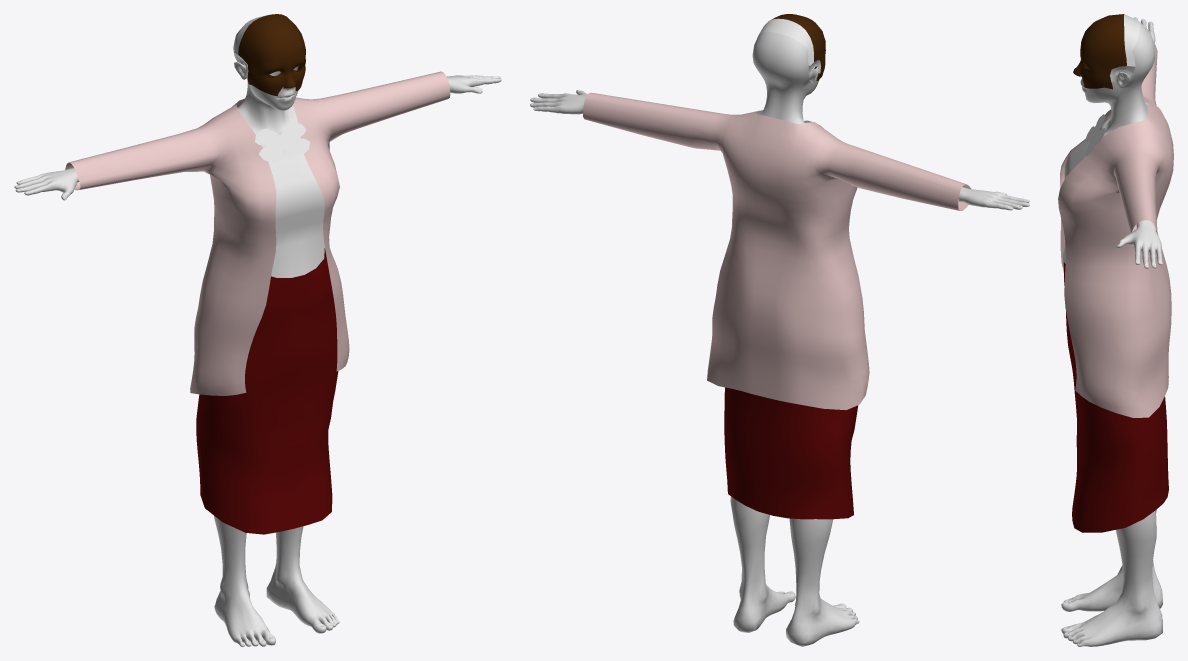
Rendered from Rosa.fbx.
3 renders of one model, left to right at view 1: azimuth 30°, elevation 25°; view 2: azimuth 150°, elevation 25°; view 3: azimuth 270°, elevation 25°, orthographic.
Parts seen in each view (by area): view 1: polySurface3; view 2: polySurface3; view 3: polySurface3.
Boxes of the visible parts, box(x1,y1,x2,y2) form: polySurface3: box(14, 14, 501, 646); polySurface3: box(530, 14, 1029, 646); polySurface3: box(1058, 14, 1173, 646).
Bounding box in the file's own units: 29.9 × 35.29 × 6.11.
